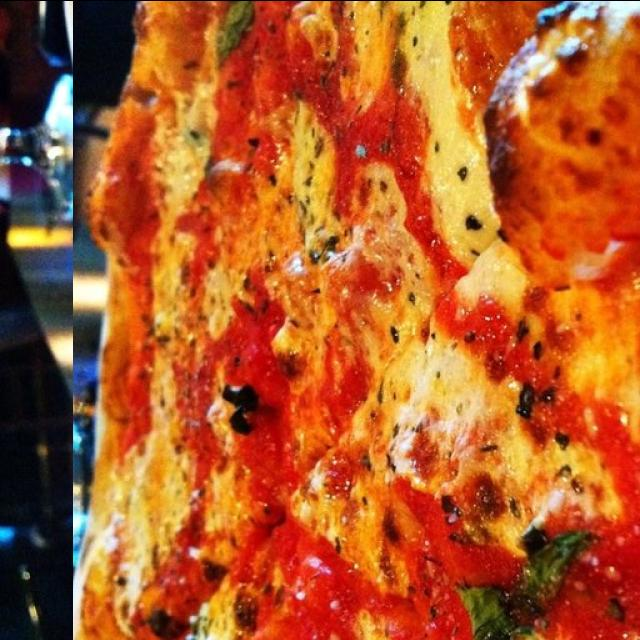basil: (73, 0, 640, 640), (455, 0, 593, 110), (214, 572, 252, 640)
